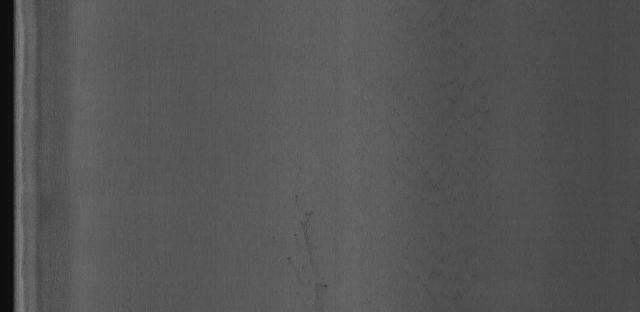inclusion: (287, 212, 328, 294)
silk_spot: (381, 6, 502, 303)
